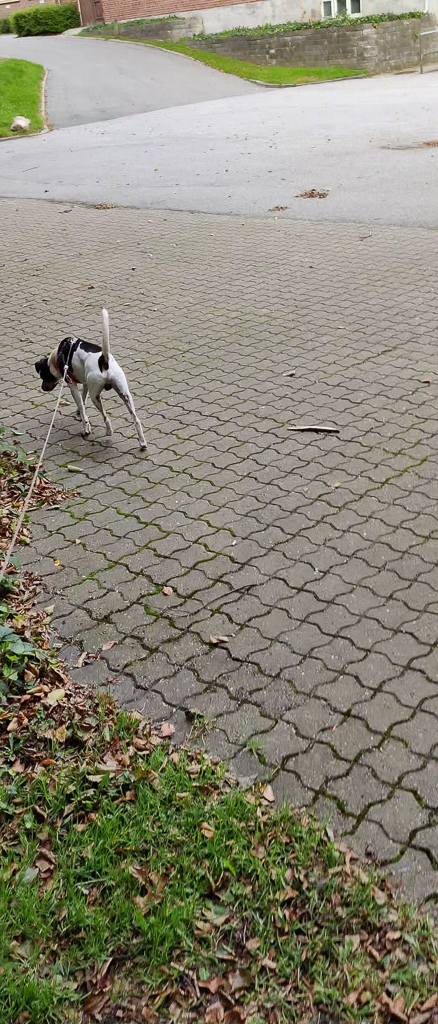Dog: (28, 299, 164, 460)
